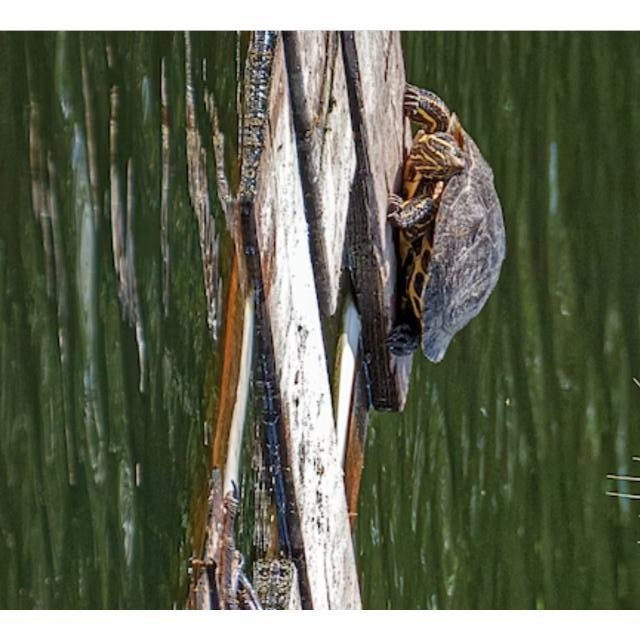turtle: (381, 83, 507, 359)
